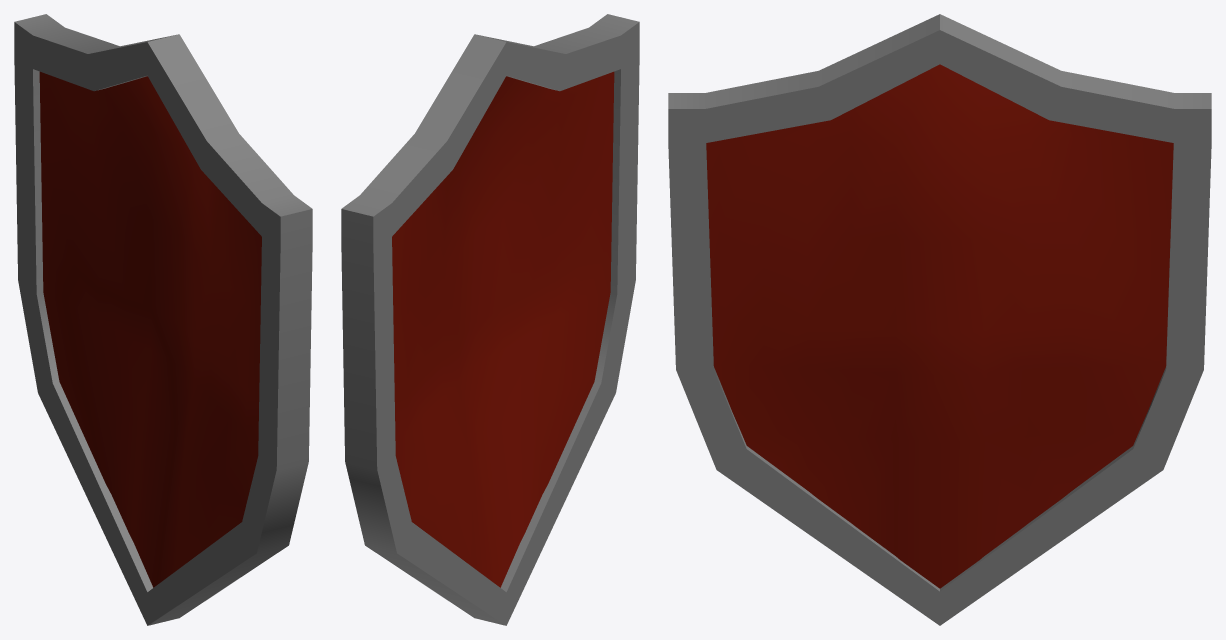
Rendered from RED_SHIELD.fbx.
The picture shows the model from 3 angles, left to right: view 1: azimuth 30°, elevation 25°; view 2: azimuth 150°, elevation 25°; view 3: azimuth 270°, elevation 25°; orthographic projection. The views are drawn at different scales.
Parts seen in each view (by area): view 1: pCube2, pCube1; view 2: pCube2, pCube1; view 3: pCube2, pCube1.
Part boxes in pixels (box(x1,y1,x2,y2)): pCube2: box(39, 71, 261, 587); pCube1: box(14, 14, 312, 625); pCube2: box(392, 71, 614, 587); pCube1: box(341, 14, 639, 625); pCube2: box(706, 64, 1173, 588); pCube1: box(668, 14, 1211, 625).
Bounding box in the file's own units: 1.55 × 17.38 × 14.36.
